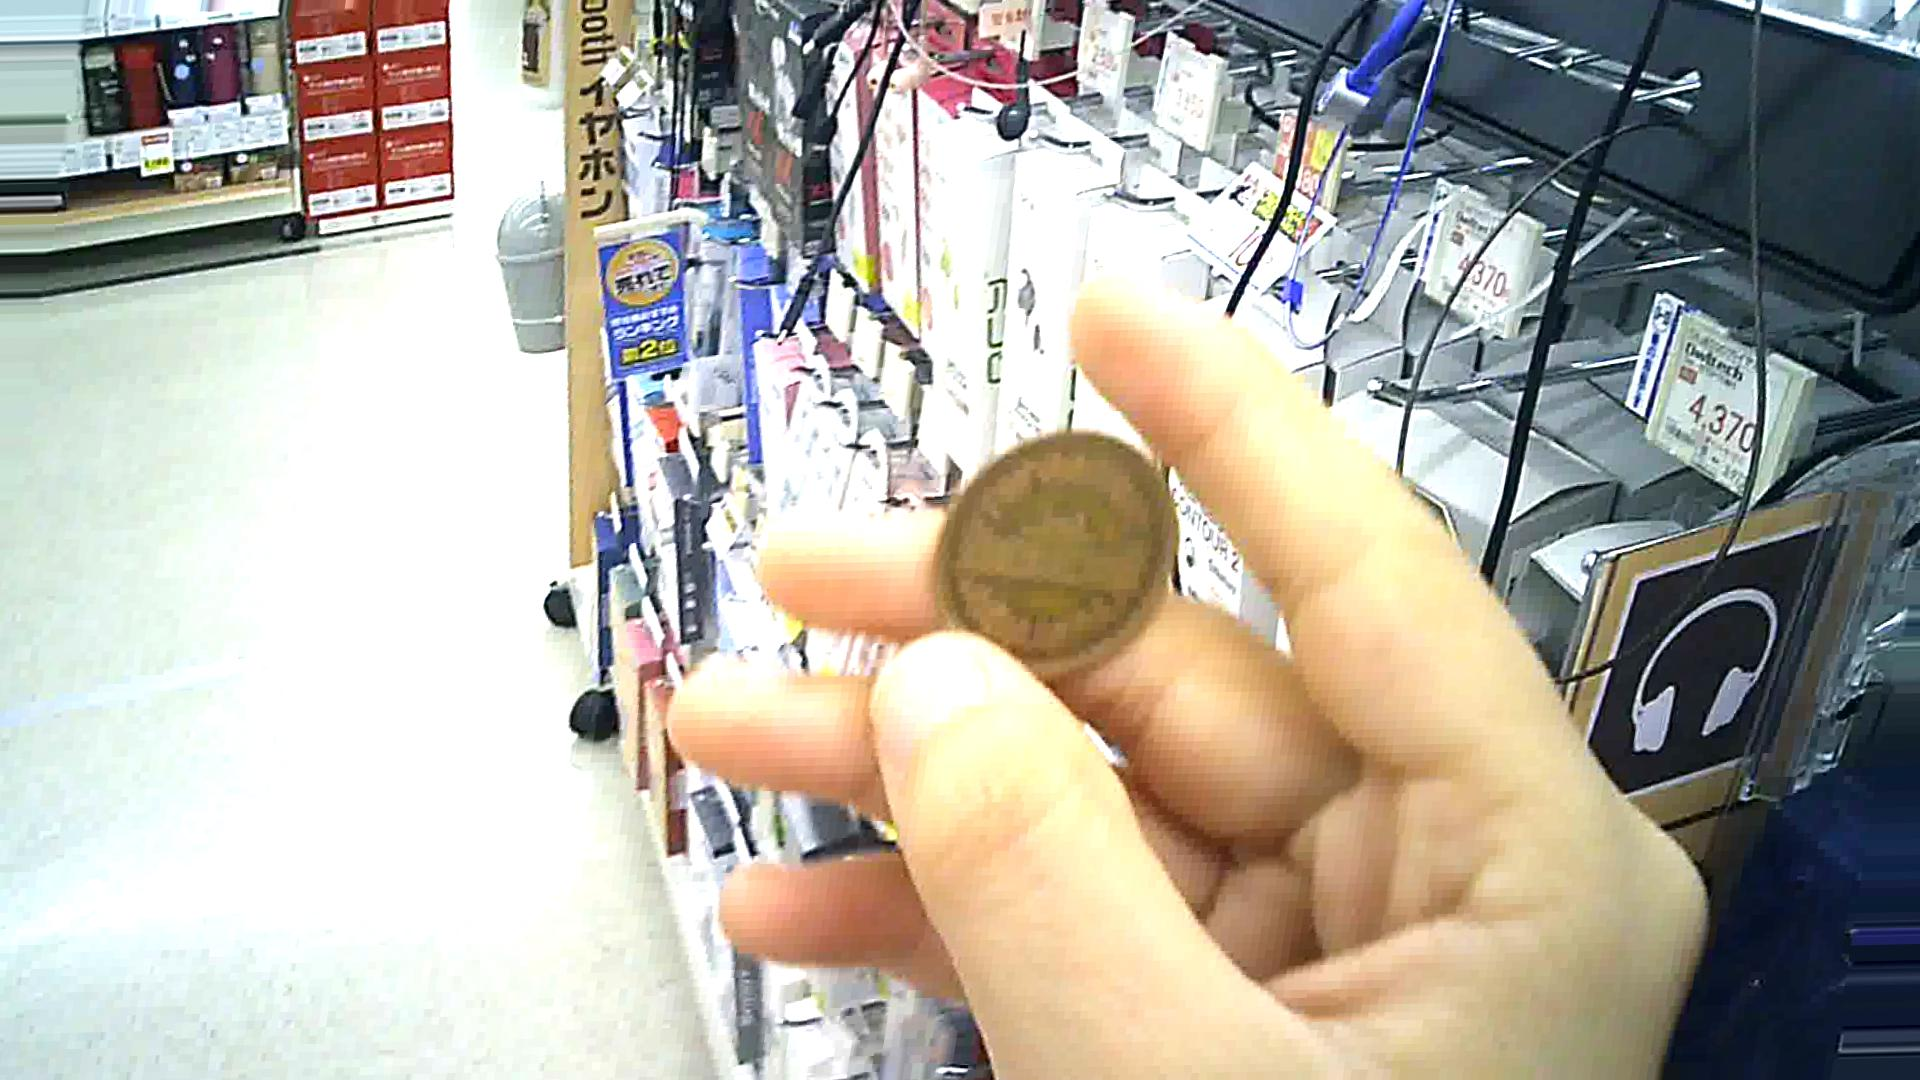10 Yen: (926, 425, 1183, 669)
